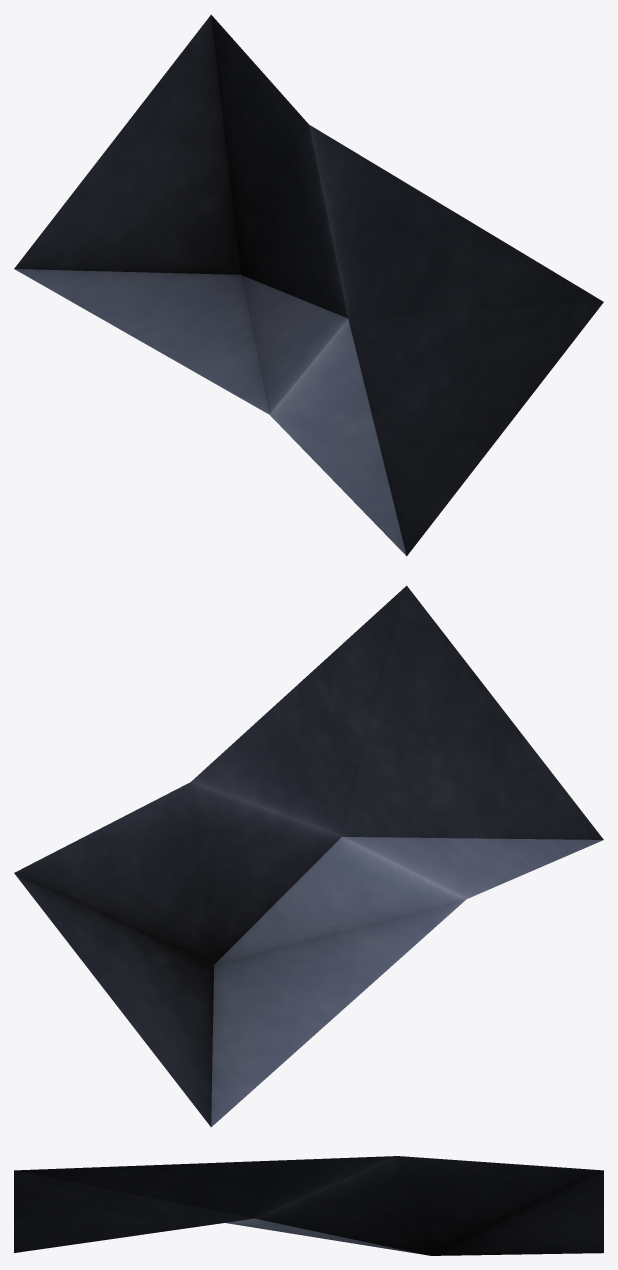
Rendered from SM_Floor_Edge_D_A.fbx.
3 views of the same model, one above another, from view 1: azimuth 30°, elevation 25°; view 2: azimuth 150°, elevation 25°; view 3: azimuth 270°, elevation 25° (orthographic). The views are drawn at different scales.
Parts seen in each view (by area): view 1: pCube194; view 2: pCube194; view 3: pCube194.
Part boxes in pixels (<box>): pCube194: <box>14,14,603,556</box>; pCube194: <box>14,585,603,1127</box>; pCube194: <box>14,1156,603,1255</box>.
Size of the model in its own units: 0.2899 by 0.2899 by 1.
